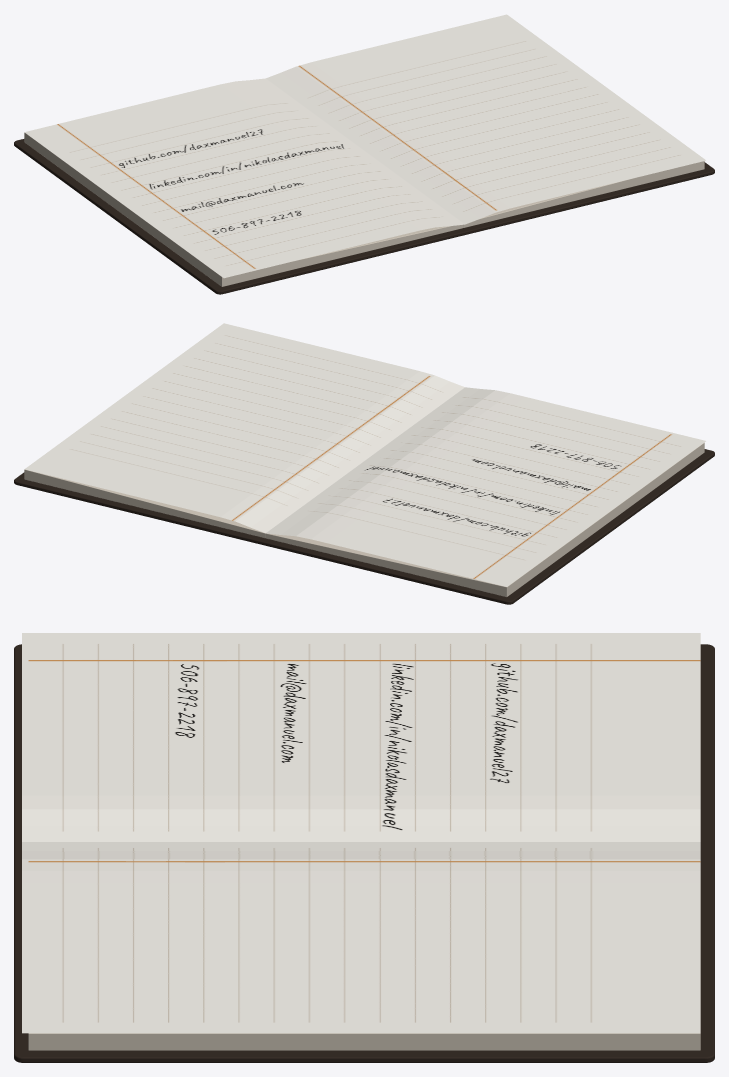
File: notebook.glb
3 renders of one model, top to bottom at view 1: azimuth 30°, elevation 25°; view 2: azimuth 150°, elevation 25°; view 3: azimuth 270°, elevation 25°, orthographic. The views are drawn at different scales.
Parts seen in each view (by area): view 1: Notebook_Open.Pages, Notebook_Open.Cover, Notebook_Open.PageBlock_Left, Notebook_Open.PageBlock_Right; view 2: Notebook_Open.Pages, Notebook_Open.Cover, Notebook_Open.PageBlock_Left, Notebook_Open.PageBlock_Right; view 3: Notebook_Open.Pages, Notebook_Open.Cover, Notebook_Open.PageBlock_Right.
Boxes of the visible parts, x1,y1,x2,y2 form: Notebook_Open.Pages: (24,14,705,278); Notebook_Open.Cover: (14,139,714,294); Notebook_Open.PageBlock_Left: (24,132,463,286); Notebook_Open.PageBlock_Right: (463,161,704,227); Notebook_Open.Pages: (25,323,705,586); Notebook_Open.Cover: (14,449,714,604); Notebook_Open.PageBlock_Left: (265,442,704,596); Notebook_Open.PageBlock_Right: (24,469,265,538); Notebook_Open.Pages: (22,633,700,1033); Notebook_Open.Cover: (14,644,714,1062); Notebook_Open.PageBlock_Right: (28,1033,700,1050).
Bounding box in the file's own units: 0.306 × 0.00803 × 0.219.
Materials: 3 (1 with a texture image).
